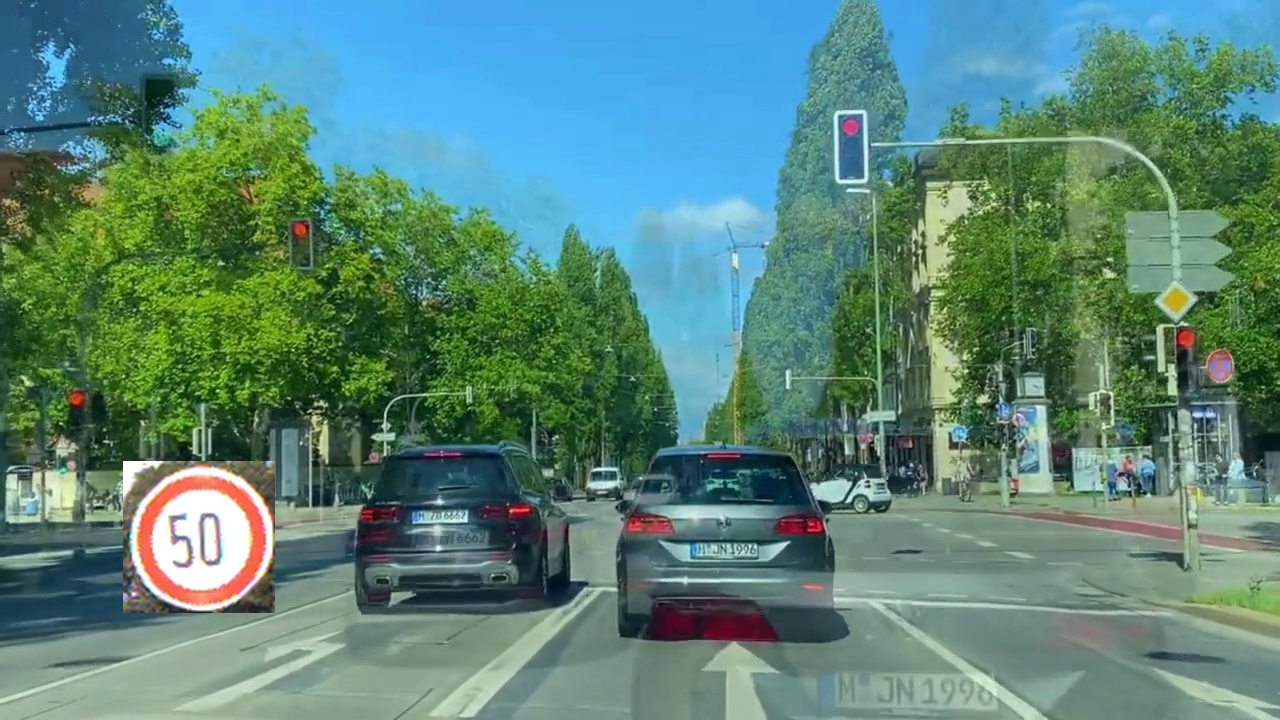Speed 50: (123, 461, 275, 613)
